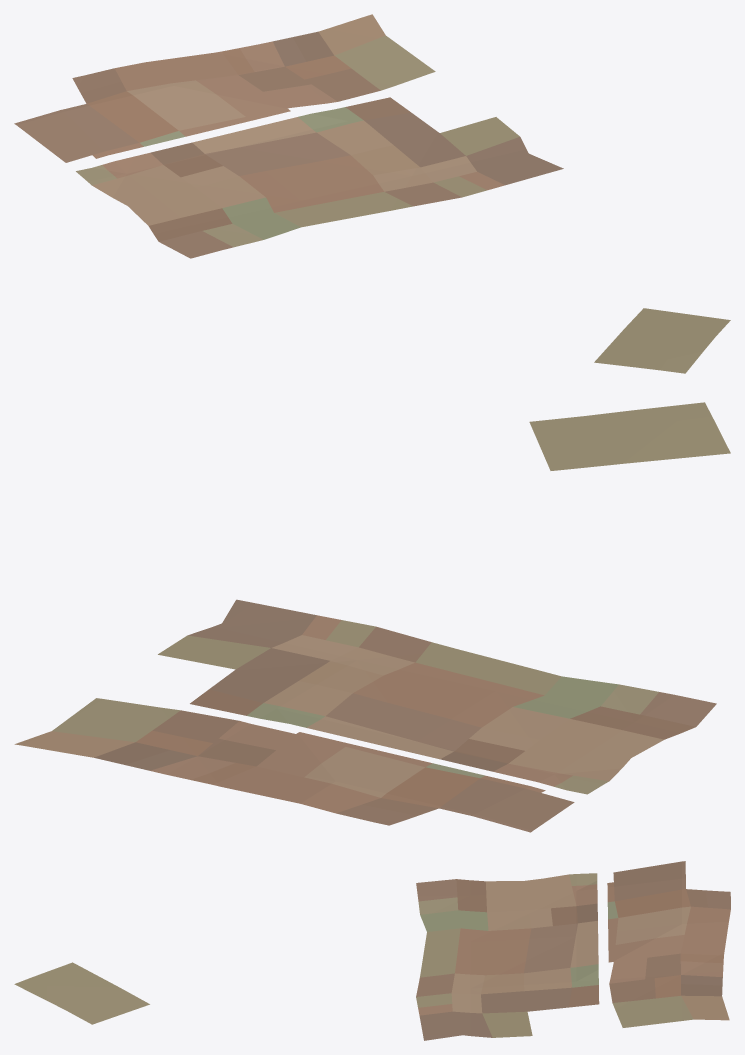
File: farm_-4_2_soil.glb
3 views of the same model, one above another, from view 1: azimuth 30°, elevation 25°; view 2: azimuth 150°, elevation 25°; view 3: azimuth 270°, elevation 25° (orthographic). The views are drawn at different scales.
Visible parts, largest first — view 1: geometry_0; view 2: geometry_0; view 3: geometry_0.
Boxes of the visible parts, bbox=[...] form: geometry_0: bbox=[14, 14, 730, 373]; geometry_0: bbox=[14, 402, 730, 832]; geometry_0: bbox=[14, 861, 730, 1040].
Bounding box in the file's own units: 284 × 20.81 × 542.
